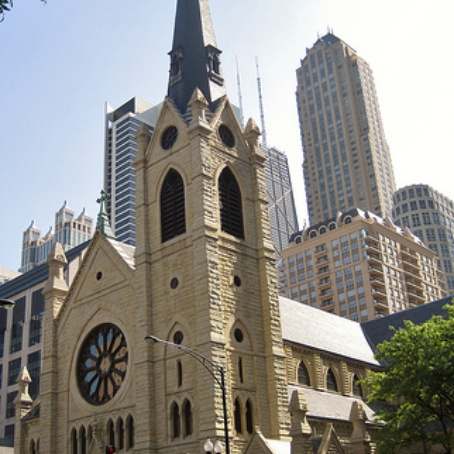building: (52, 1, 381, 445), (286, 33, 401, 220), (6, 215, 83, 454), (279, 220, 446, 316), (96, 102, 162, 246), (399, 181, 454, 286)
sky: (1, 1, 104, 205)
tree: (368, 310, 454, 447)
